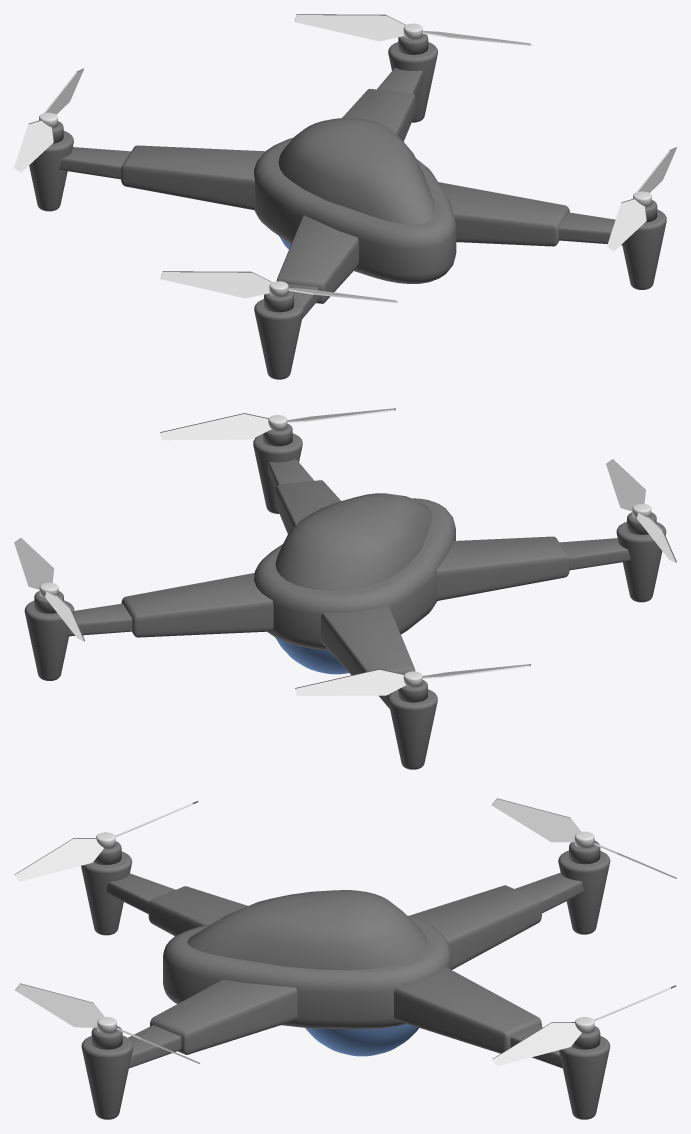
The model's file is worker_drone.gltf.
The picture shows the model from 3 angles, top to bottom: view 1: azimuth 30°, elevation 25°; view 2: azimuth 150°, elevation 25°; view 3: azimuth 270°, elevation 25°; orthographic projection. The views are drawn at different scales.
Visible parts, largest first — view 1: body, arm_front_left, arm_rear_right, arm_rear_left, arm_front_right, propeller_front_right, propeller_rear_left, propeller_rear_right, propeller_front_left; view 2: body, arm_front_right, arm_rear_left, arm_front_left, arm_rear_right, propeller_front_left, propeller_rear_right, propeller_rear_left, propeller_front_right, generator; view 3: body, arm_rear_right, arm_front_right, arm_front_left, arm_rear_left, propeller_front_left, propeller_rear_right, propeller_front_right, generator, propeller_rear_left.
Boxes of the visible parts, left/top/right/bottom form: body: left=254, top=118, right=456, bottom=283; arm_front_left: left=29, top=121, right=265, bottom=211; arm_rear_right: left=438, top=182, right=666, bottom=289; arm_rear_left: left=254, top=215, right=358, bottom=379; arm_front_right: left=342, top=34, right=437, bottom=141; propeller_front_right: left=294, top=14, right=531, bottom=45; propeller_rear_left: left=160, top=271, right=397, bottom=302; propeller_rear_right: left=607, top=147, right=676, bottom=251; propeller_front_left: left=14, top=68, right=83, bottom=172; body: left=254, top=493, right=455, bottom=650; arm_front_right: left=24, top=573, right=273, bottom=680; arm_rear_left: left=436, top=512, right=666, bottom=602; arm_front_left: left=321, top=605, right=437, bottom=769; arm_rear_right: left=253, top=423, right=340, bottom=533; propeller_front_left: left=295, top=664, right=530, bottom=695; propeller_rear_right: left=160, top=408, right=395, bottom=440; propeller_rear_left: left=606, top=459, right=676, bottom=562; propeller_front_right: left=14, top=538, right=84, bottom=641; generator: left=275, top=637, right=348, bottom=674; body: left=163, top=890, right=451, bottom=1029; arm_rear_right: left=81, top=979, right=297, bottom=1119; arm_front_right: left=394, top=967, right=610, bottom=1119; arm_front_left: left=409, top=840, right=610, bottom=969; arm_rear_left: left=81, top=841, right=247, bottom=935; propeller_front_left: left=491, top=798, right=676, bottom=878; propeller_rear_right: left=15, top=983, right=199, bottom=1063; propeller_front_right: left=492, top=985, right=676, bottom=1066; generator: left=305, top=1024, right=418, bottom=1056; propeller_rear_left: left=14, top=801, right=198, bottom=881.
Bounding box in the file's own units: 3.42 × 0.9047 × 3.64.
